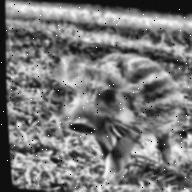boar: (32, 29, 192, 177)
